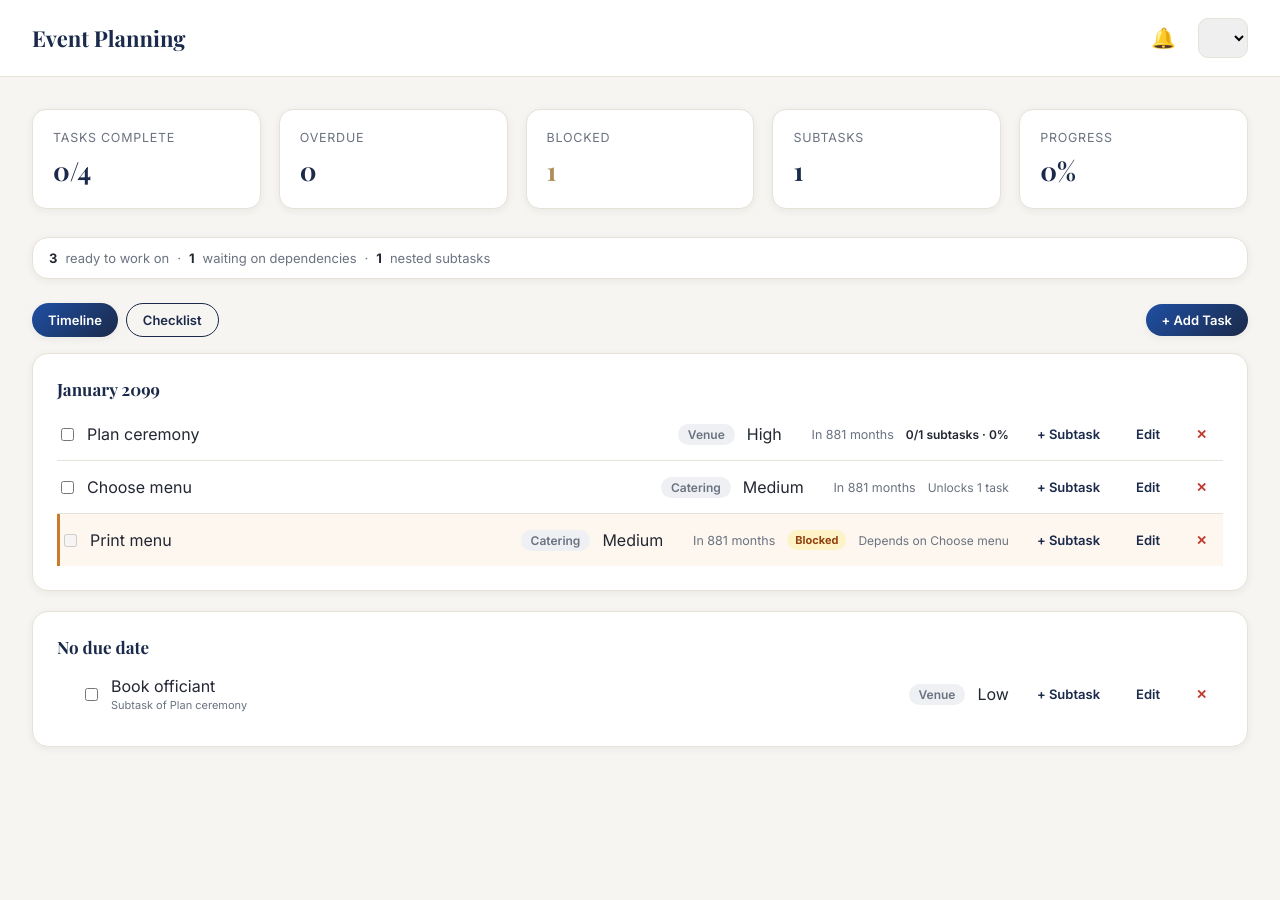
Test: Planning dependency editor › prefills parent and existing dependency selections
Click the button "Edit" in the row of "Print menu" at (1148, 540), box [1120,524,1176,556]
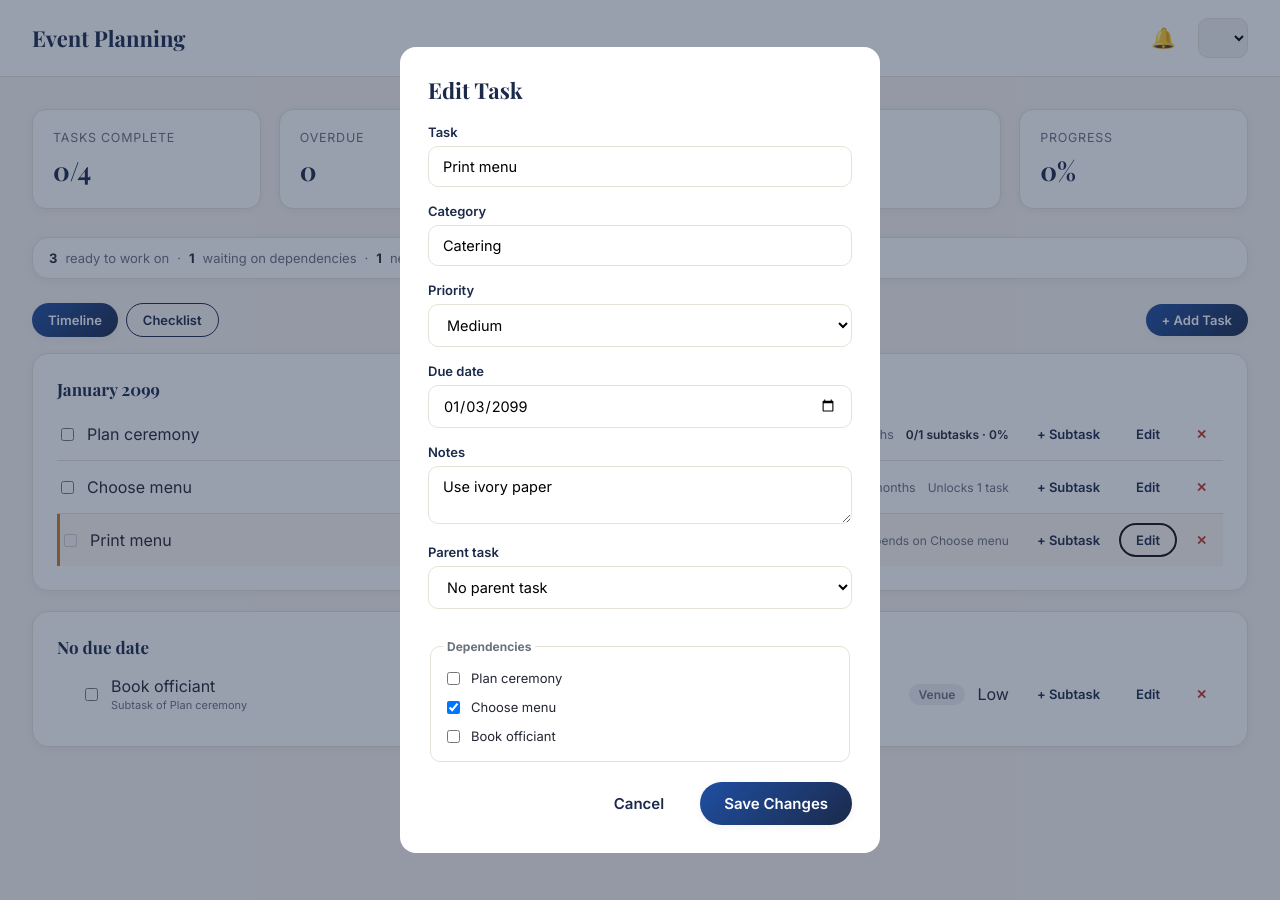
Now the dropdown labelled "Parent task" shows "No parent task", box [428,566,852,609]
Now the checkbox labelled "Choose menu" is checked, box [447,701,460,714]
